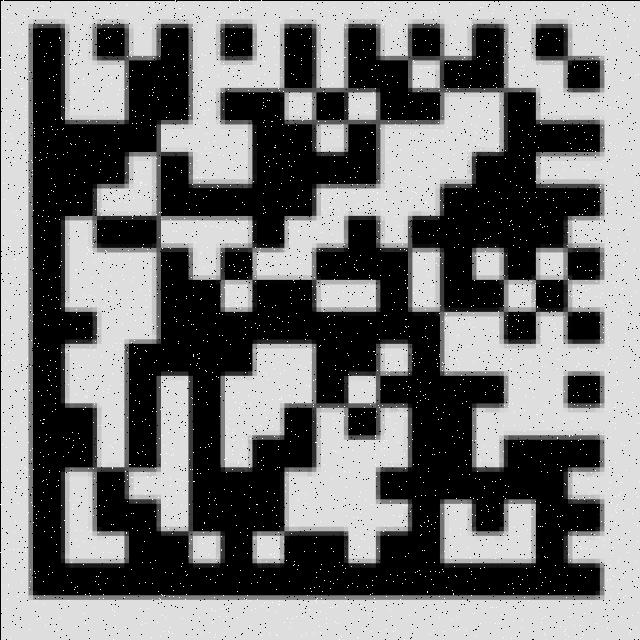datamatrix: (14, 9, 612, 608)
